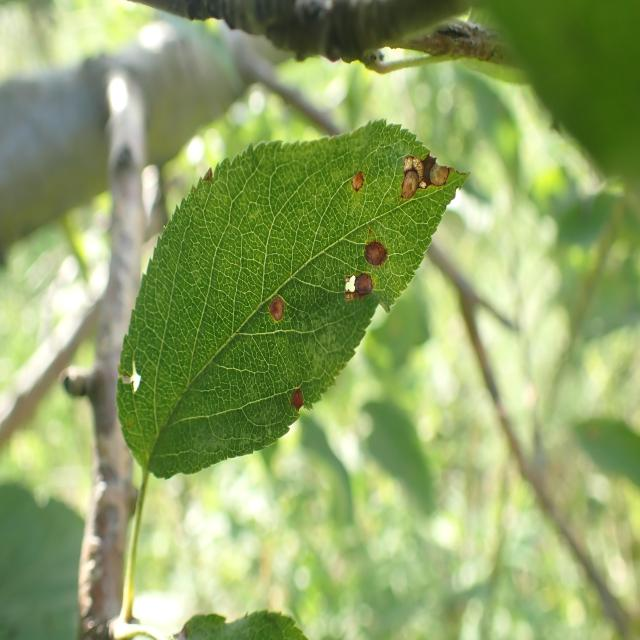Black Rot: (388, 146, 463, 204), (100, 348, 157, 410), (282, 375, 314, 435), (347, 146, 376, 210), (344, 265, 381, 314), (358, 238, 396, 275), (267, 282, 294, 330)
